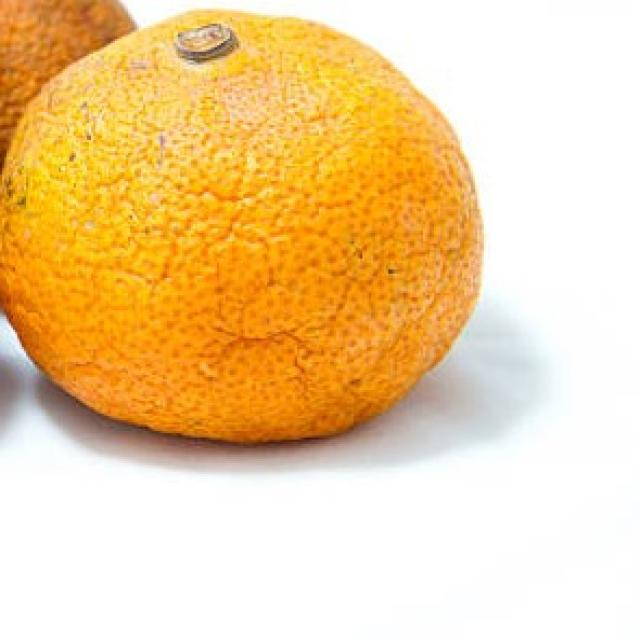overripe: (0, 0, 490, 457)
